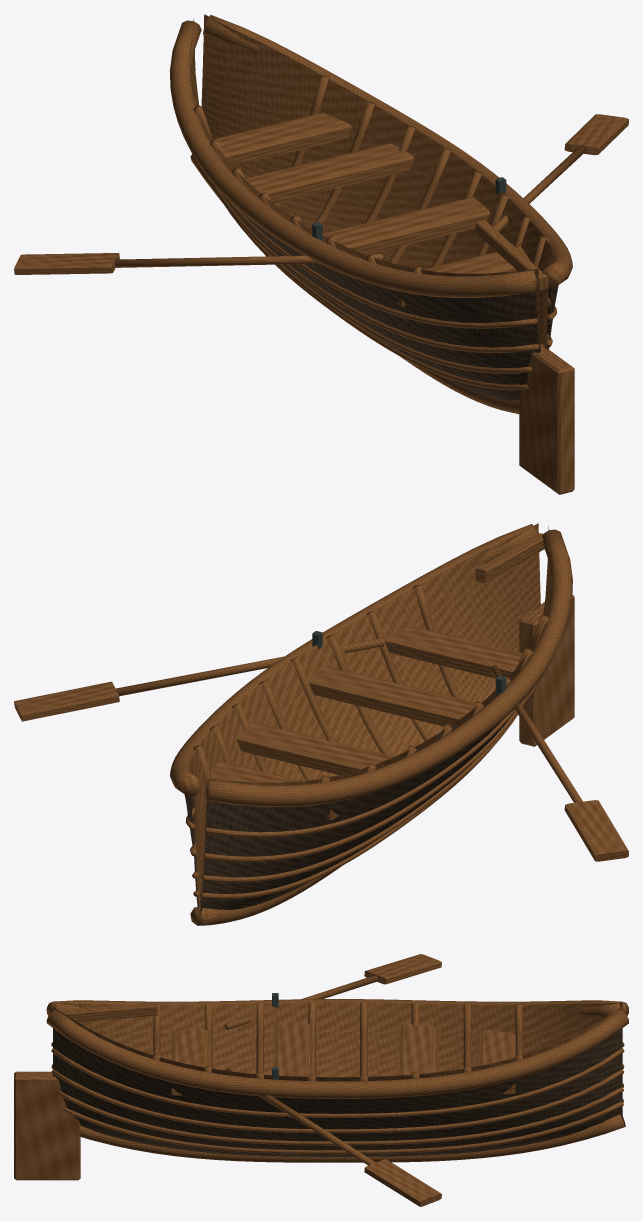
The model's file is fishing_rowboat.glb.
3 views of the same model, one above another, from view 1: azimuth 30°, elevation 25°; view 2: azimuth 150°, elevation 25°; view 3: azimuth 270°, elevation 25° (orthographic). The views are drawn at different scales.
Visible parts, largest first — view 1: fishing_rowboat_Hull.001, fishing_rowboat_Joinery.001; view 2: fishing_rowboat_Hull.001, fishing_rowboat_Joinery.001; view 3: fishing_rowboat_Hull.001, fishing_rowboat_Joinery.001.
Boxes of the visible parts, x1,y1,x2,y2 form: fishing_rowboat_Hull.001: [169, 14, 572, 413]; fishing_rowboat_Joinery.001: [14, 75, 628, 494]; fishing_rowboat_Hull.001: [170, 523, 572, 925]; fishing_rowboat_Joinery.001: [14, 533, 628, 861]; fishing_rowboat_Hull.001: [46, 999, 628, 1162]; fishing_rowboat_Joinery.001: [14, 954, 522, 1206].
Size of the model in its own units: 4.22 by 1.38 by 4.42.
2 materials, 2 textured.
